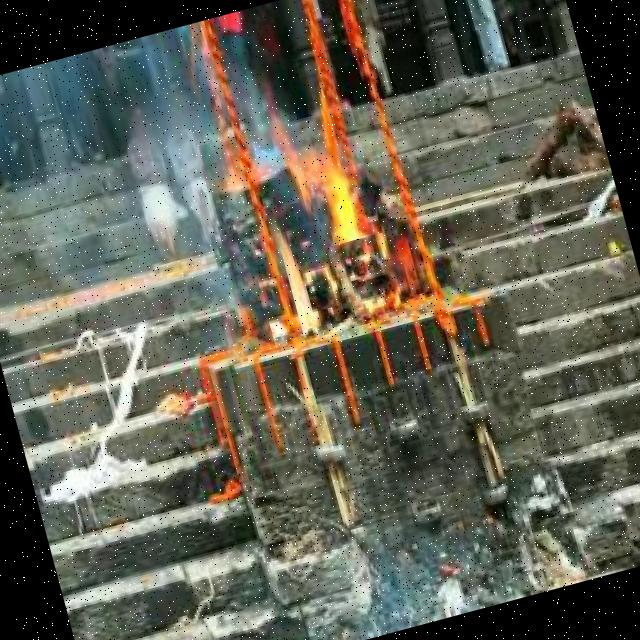fire: (304, 156, 382, 248)
